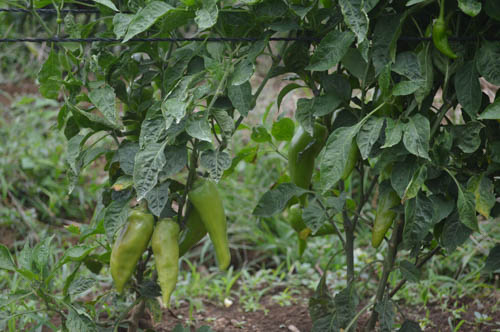ChiliPepper: (109, 212, 152, 289), (194, 181, 229, 265), (289, 125, 325, 206), (150, 221, 179, 305), (372, 173, 402, 248), (179, 212, 202, 263), (430, 21, 456, 60)
